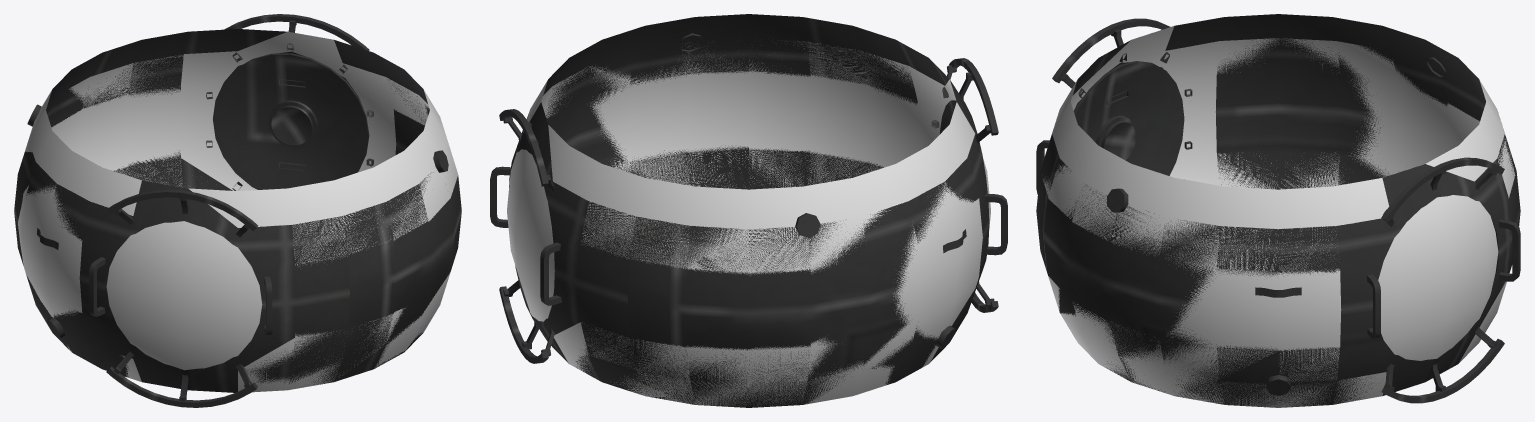
The model's file is pirs_v2_airlock.fbx.
3 views of the same model, side by side, from view 1: azimuth 30°, elevation 25°; view 2: azimuth 150°, elevation 25°; view 3: azimuth 270°, elevation 25° (orthographic). The views are drawn at different scales.
Parts seen in each view (by area): view 1: airlock, shape, mesh_windows; view 2: airlock, shape; view 3: airlock, shape, mesh_windows.
Boxes of the visible parts, bbox=[...] form: airlock: bbox=[14, 14, 461, 407]; shape: bbox=[18, 31, 458, 392]; mesh_windows: bbox=[271, 107, 311, 145]; airlock: bbox=[490, 14, 1007, 407]; shape: bbox=[507, 40, 990, 407]; airlock: bbox=[1036, 14, 1520, 407]; shape: bbox=[1043, 26, 1515, 407]; mesh_windows: bbox=[1104, 122, 1135, 160].
Size of what is drawn, in the model's own units: 1.47 by 0.7698 by 1.46.
